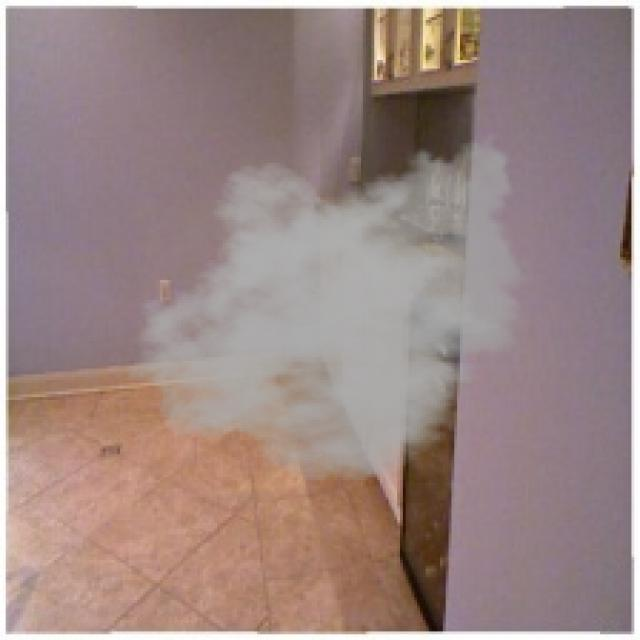Smoke: (122, 126, 538, 483)
